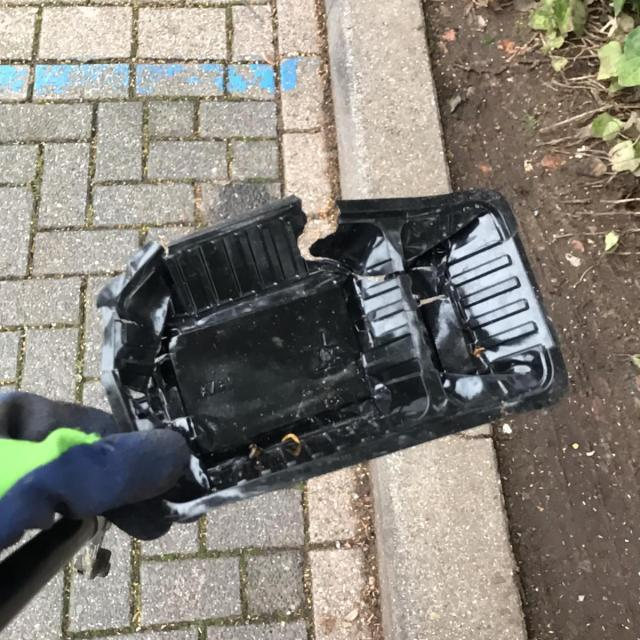Plastic: (92, 186, 572, 526)
